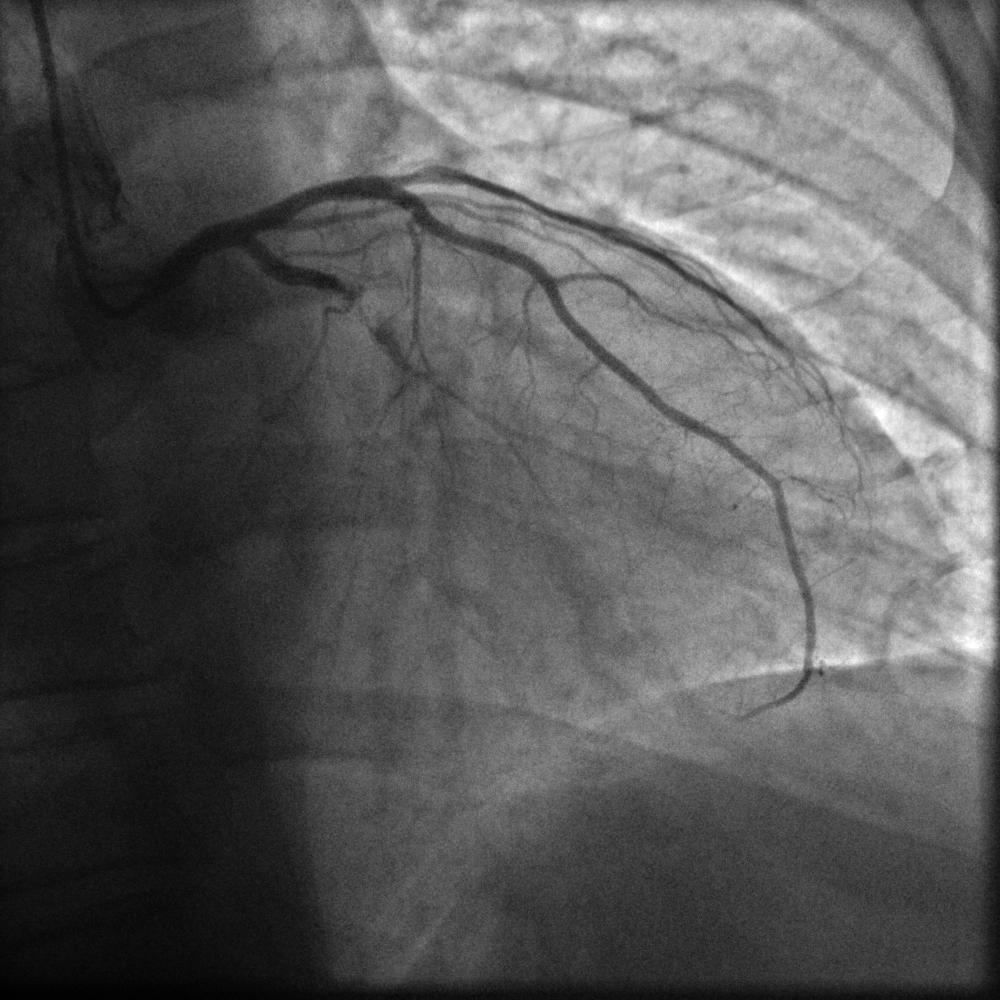Stenosis: (331, 270, 392, 335)
